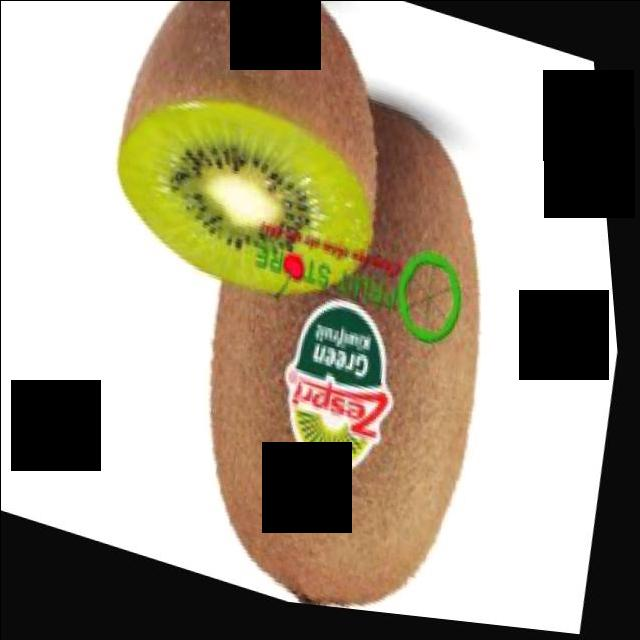kiwi: (150, 70, 548, 633)
